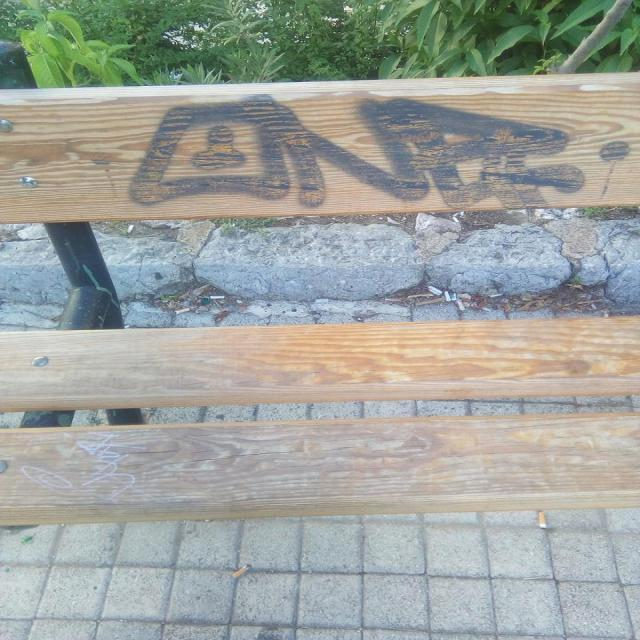nonspitting: (129, 92, 626, 212)
